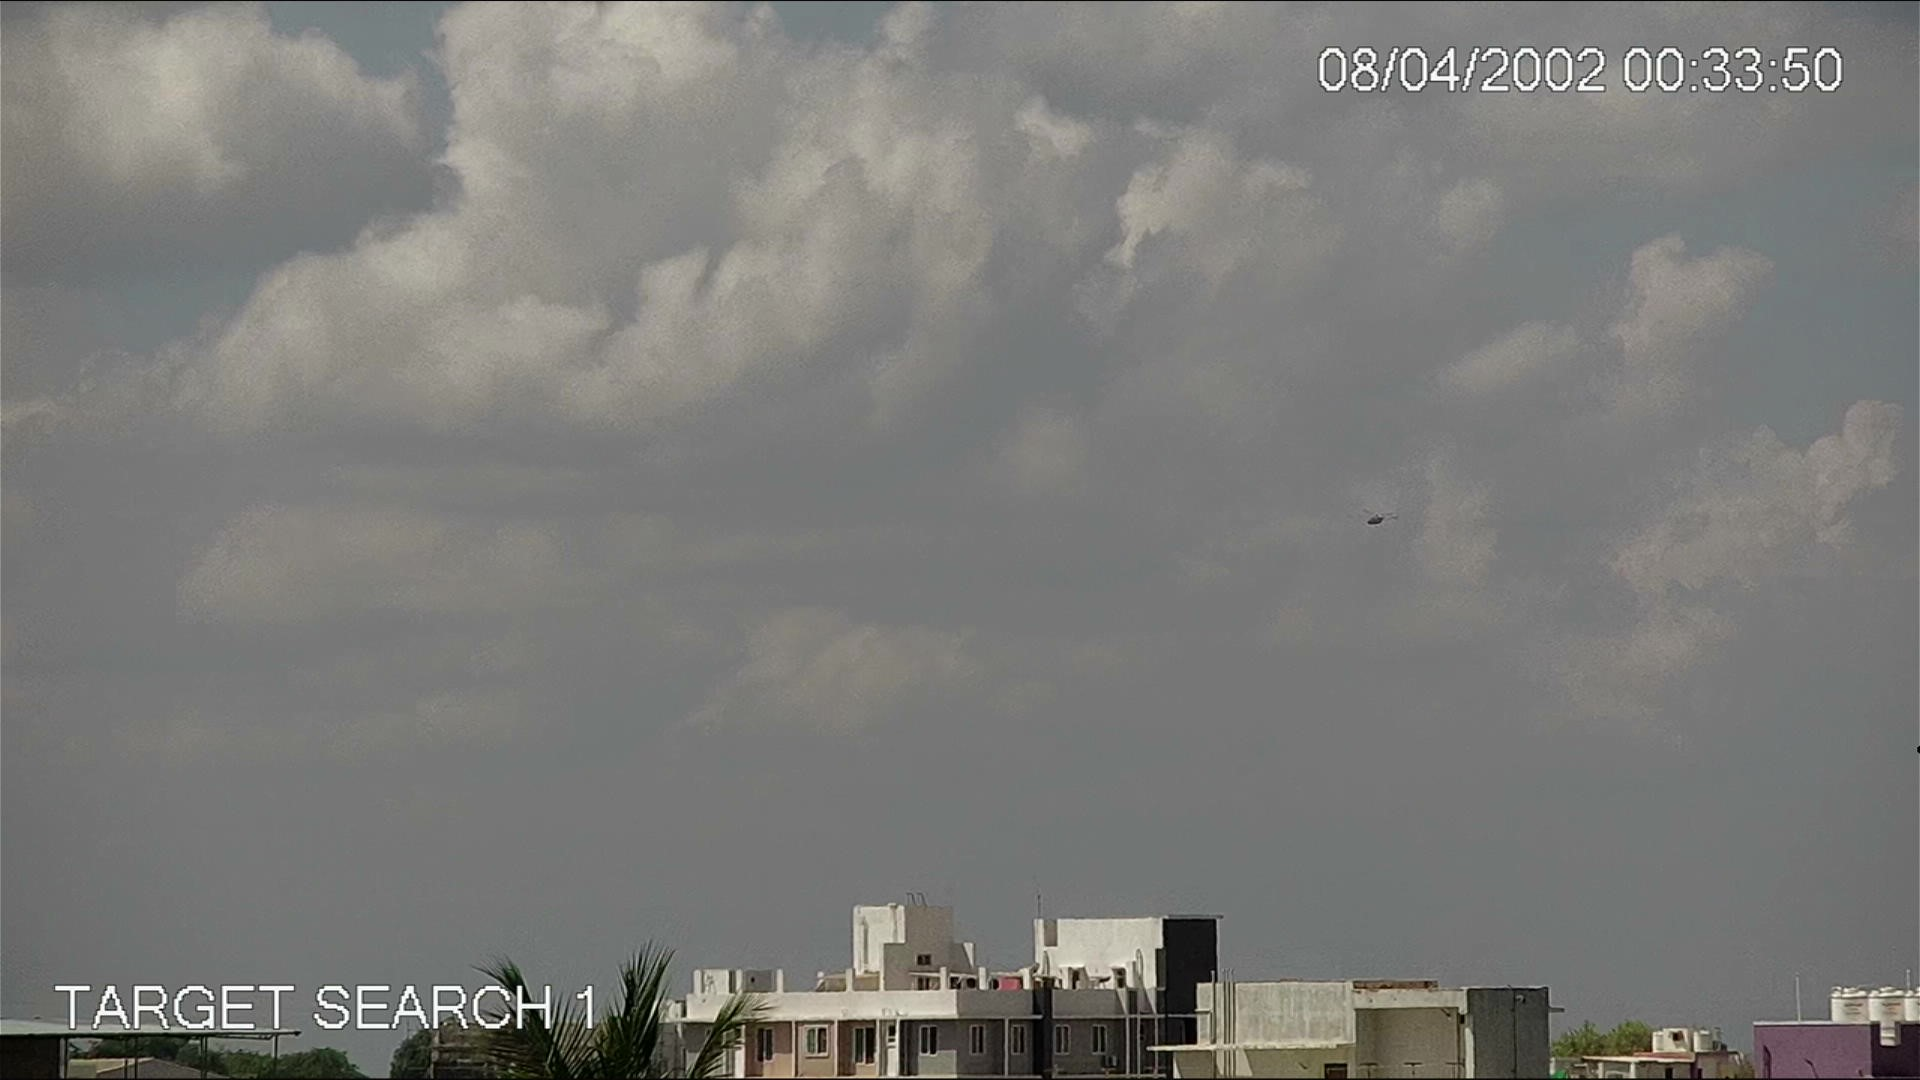SU_30: (1357, 501, 1406, 533)
